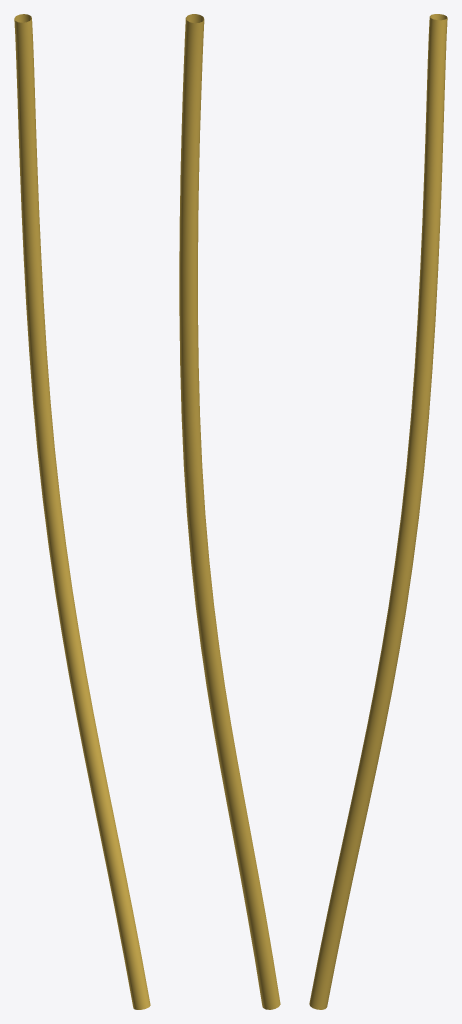
The model's file is Common_palmar_digital_branches_ulnar_nerve_left.glb.
The picture shows the model from 3 angles, left to right: view 1: azimuth 90°, elevation 25°; view 2: azimuth 150°, elevation 25°; view 3: azimuth 270°, elevation 25°; orthographic projection. The views are drawn at different scales.
Visible parts, largest first — view 1: Common_palmar_digital_branches_of_ulnar_nerve.l_BezierCurve.; view 2: Common_palmar_digital_branches_of_ulnar_nerve.l_BezierCurve.; view 3: Common_palmar_digital_branches_of_ulnar_nerve.l_BezierCurve..
Part boxes in pixels (<box>): Common_palmar_digital_branches_of_ulnar_nerve.l_BezierCurve.: <box>14,14,150,1009</box>; Common_palmar_digital_branches_of_ulnar_nerve.l_BezierCurve.: <box>179,14,280,1009</box>; Common_palmar_digital_branches_of_ulnar_nerve.l_BezierCurve.: <box>309,14,447,1009</box>.
Size of the model in its own units: 0.00274 by 0.0609 by 0.00765.
